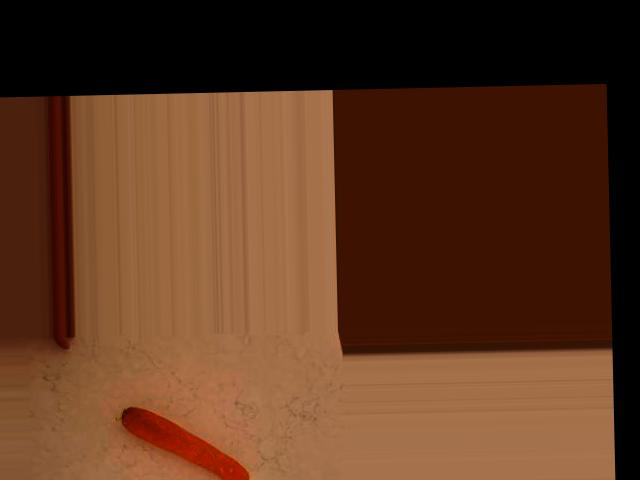carrot: (120, 401, 248, 480)
